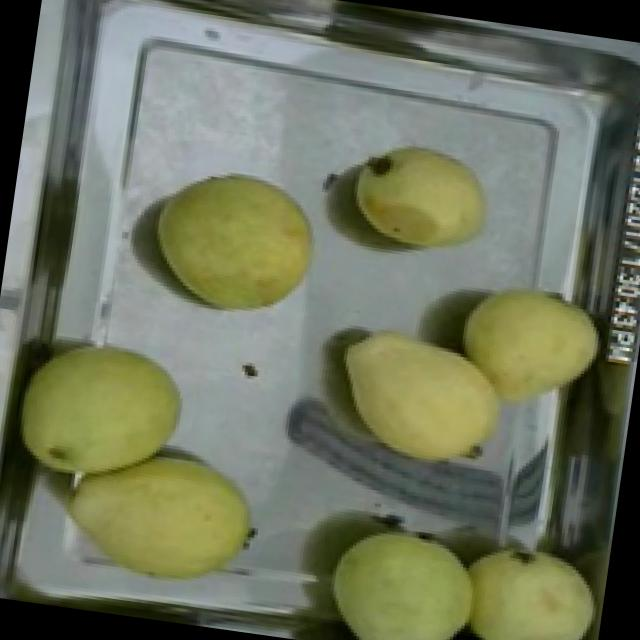Fruit: (50, 424, 282, 615), (315, 310, 531, 498), (3, 324, 203, 507), (138, 155, 334, 332), (439, 269, 621, 440), (310, 499, 501, 640), (431, 516, 612, 640), (340, 132, 502, 266)
